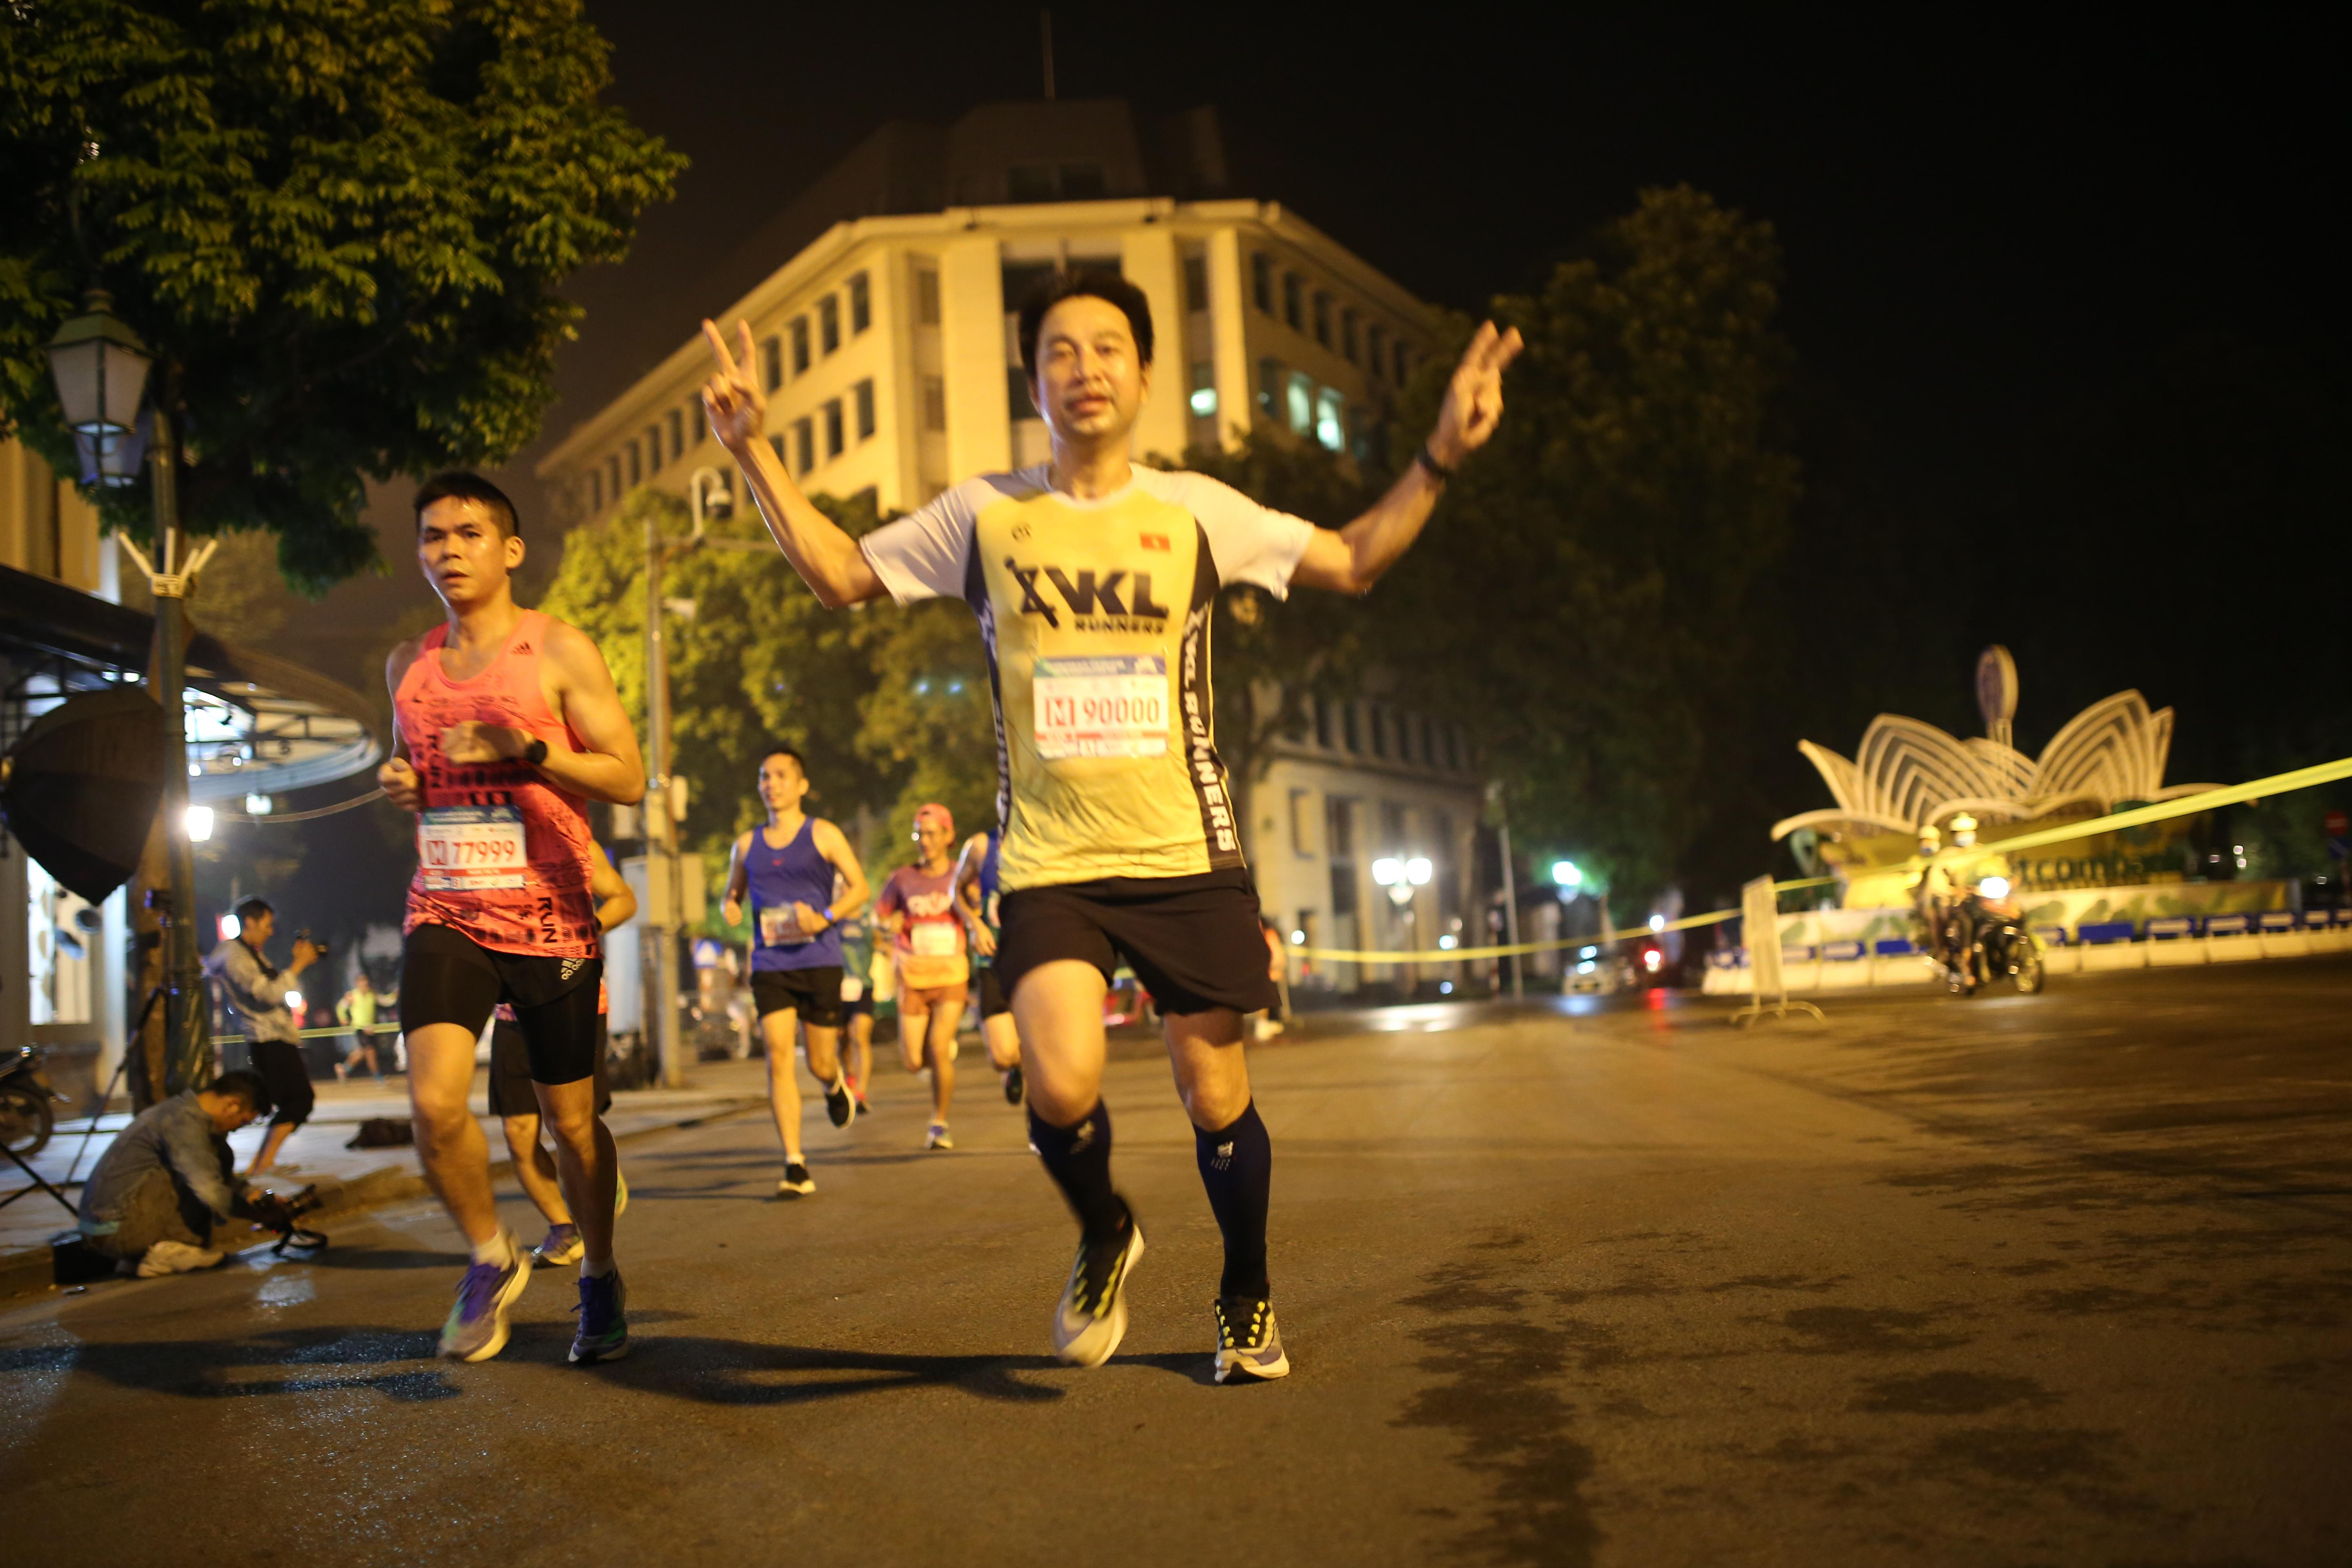bib: (1027, 654, 1171, 756), (416, 805, 527, 889), (759, 905, 815, 945), (913, 924, 957, 955)
